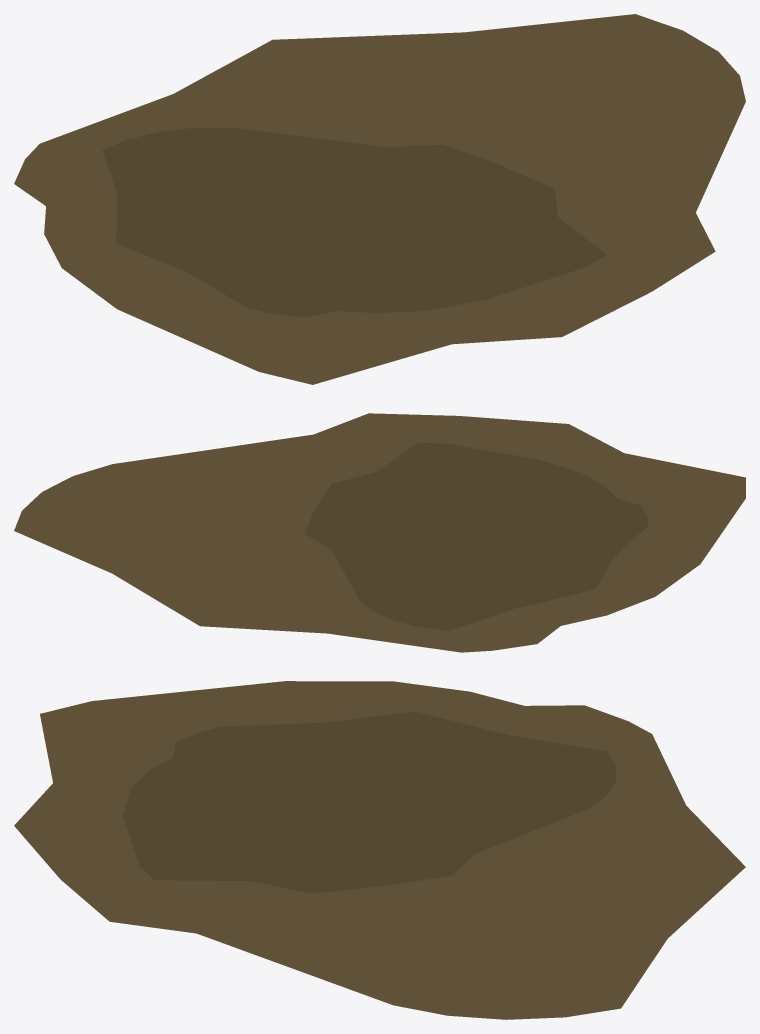
File: CharcoDeLodo3.fbx
3 renders of one model, top to bottom at view 1: azimuth 30°, elevation 25°; view 2: azimuth 150°, elevation 25°; view 3: azimuth 270°, elevation 25°, orthographic. The views are drawn at different scales.
Parts seen in each view (by area): view 1: Lodito:pDisc9; view 2: Lodito:pDisc9; view 3: Lodito:pDisc9.
Part boxes in pixels (x1,y1,x2,y2): Lodito:pDisc9: (14, 14, 745, 384); Lodito:pDisc9: (14, 413, 745, 652); Lodito:pDisc9: (14, 681, 745, 1019).
Bounding box in the file's own units: 3.52 × 0.00432 × 3.21.
